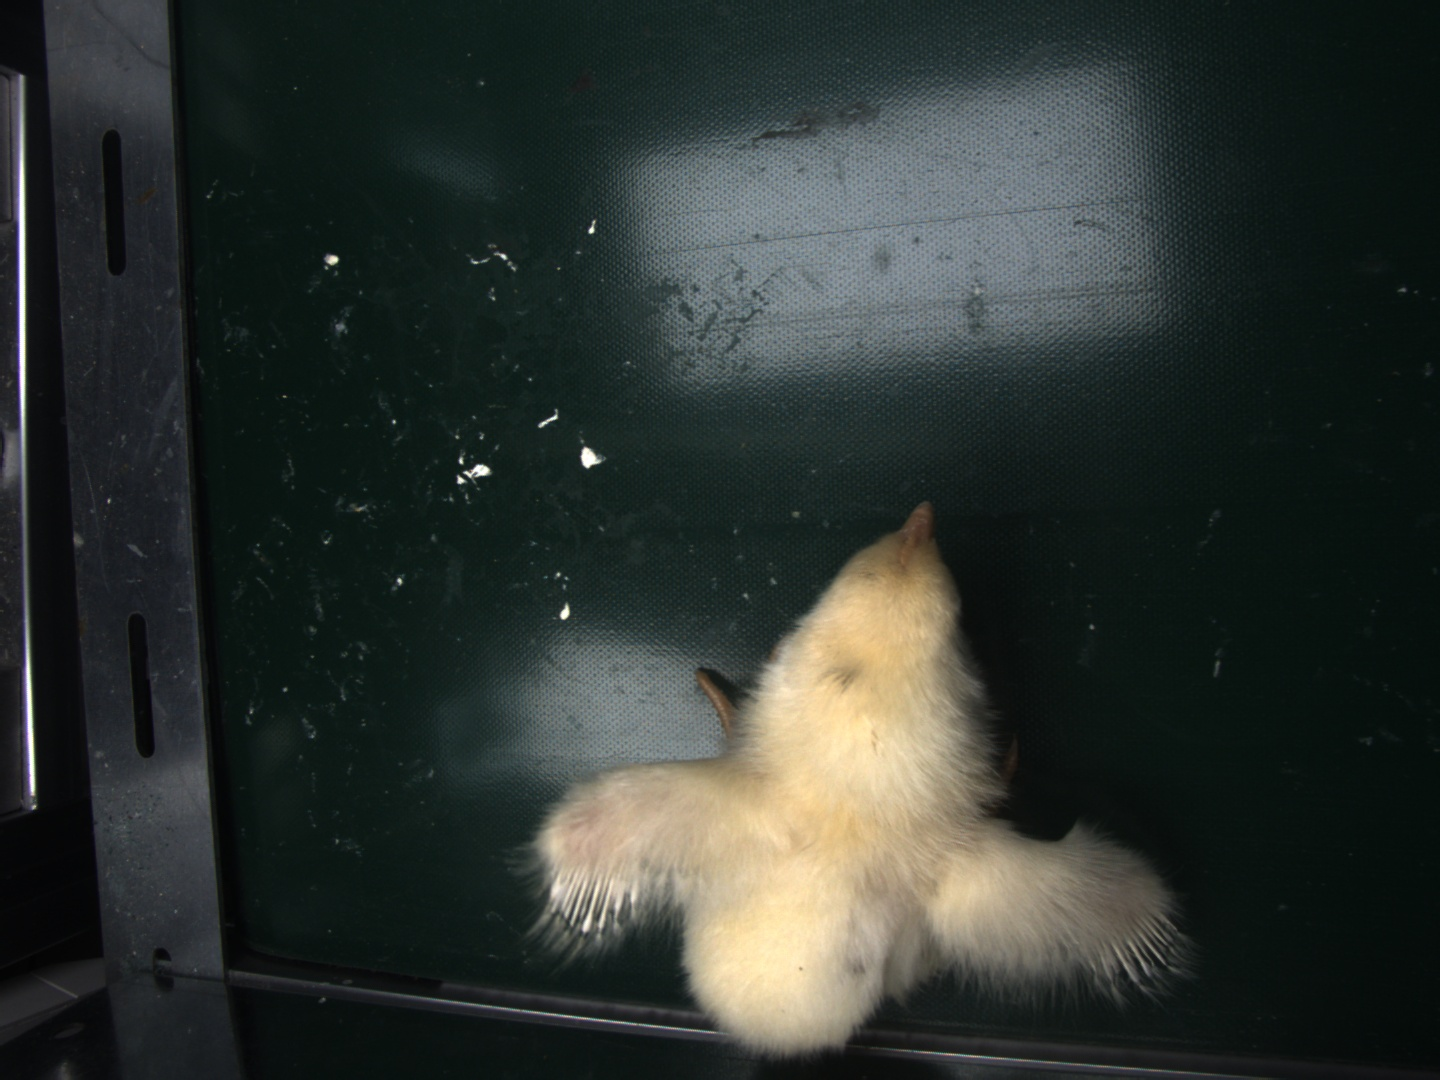male: (1093, 908, 1181, 986), (547, 866, 632, 939)
